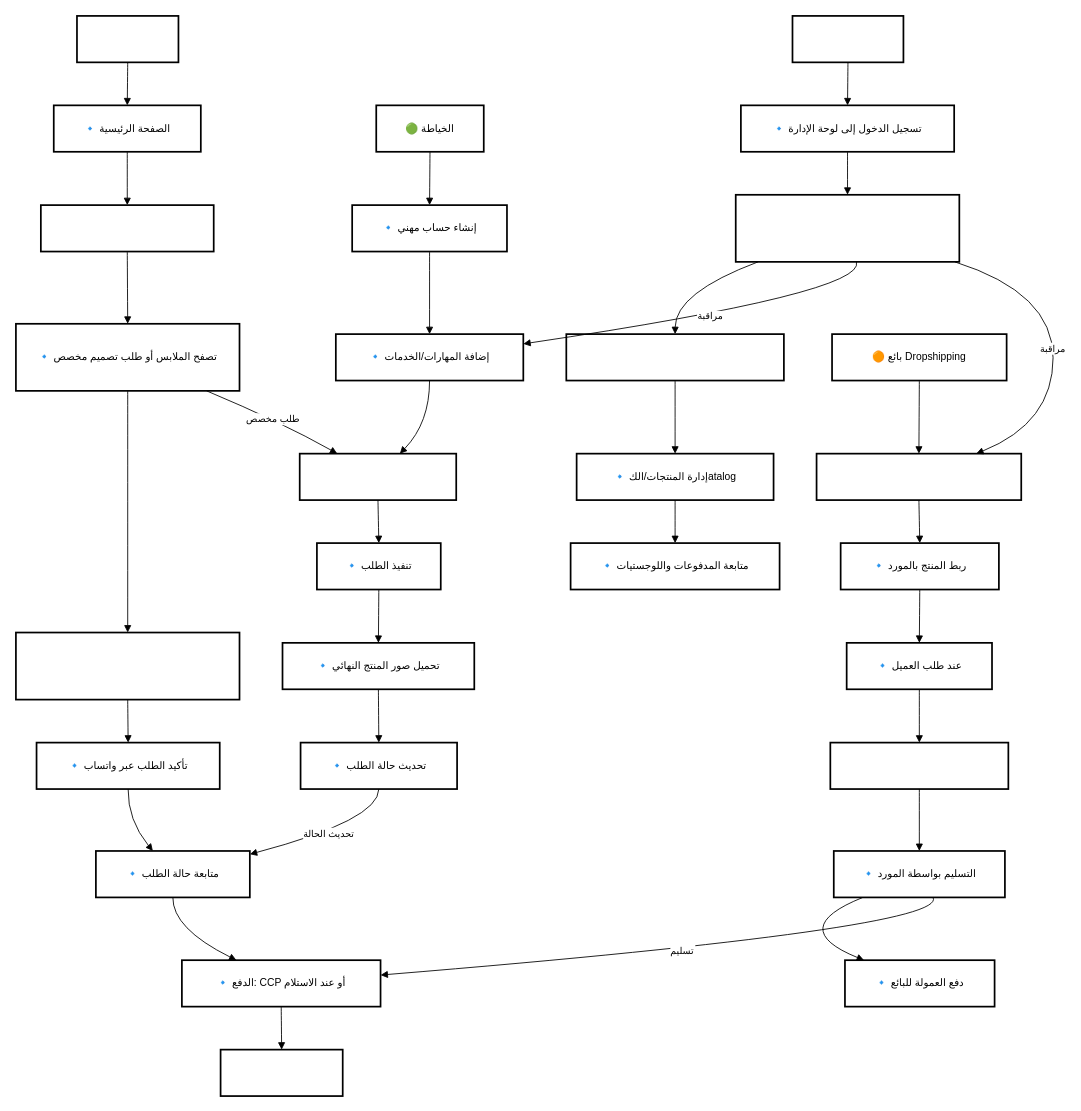
This 1081x1111 diagram has some shape labels left out. The shapes that lost their labels are listed below. From the top down, each one's centre as x and y in pixels, then its label:
At [127,39]: "🔵 العميل".
At [847,39]: "🟡 المشرف".
At [127,228]: "🔹 تسجيل/تسجيل الدخول".
At [847,228]: "🔹 إدارة المستخدمين: عملاء، خياطات، مستثمرين".
At [674,357]: "🔹 الموافقة على الموردين/المشاريع".
At [377,476]: "🔹 استلام طلب العميل".
At [918,476]: "🔹 إضافة منتج من مورد خارجي".
At [127,665]: "🔹 إدخال: اللون، القماش، المقاس، المناسبة...".
At [919,765]: "🔹 إخطار المورد الخارجي".
At [281,1072]: "🔹 تقييم المنتج".
